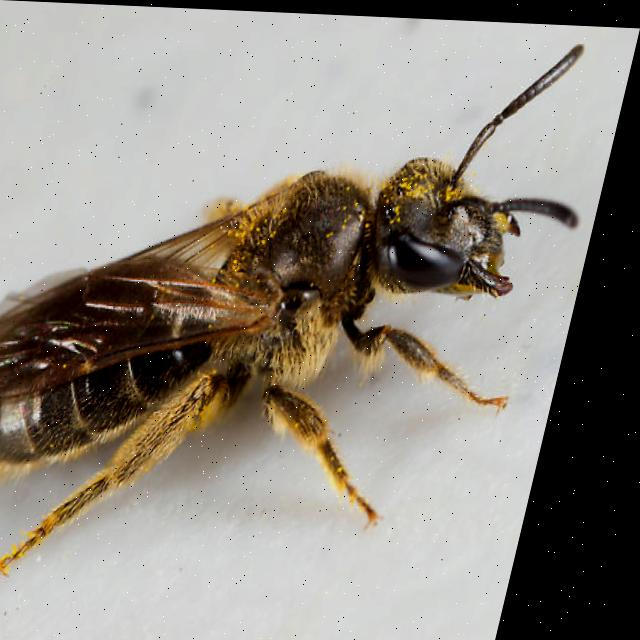Lasioglossum: (0, 28, 608, 568)
